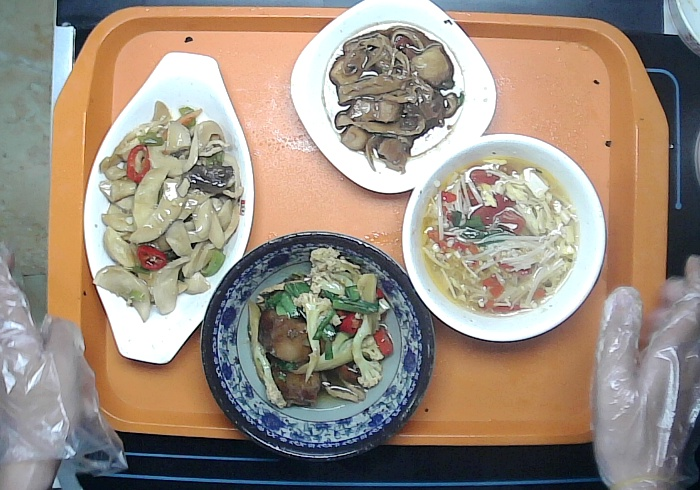ZNLD-Qing_Hua_Wan: (196, 227, 438, 466)
ZNLD-Si_Fang_Wan: (286, 1, 499, 197)
ZNLD-Tang_Wan: (400, 131, 610, 345)
ZNLD-Yu_Pan: (81, 48, 256, 367)
